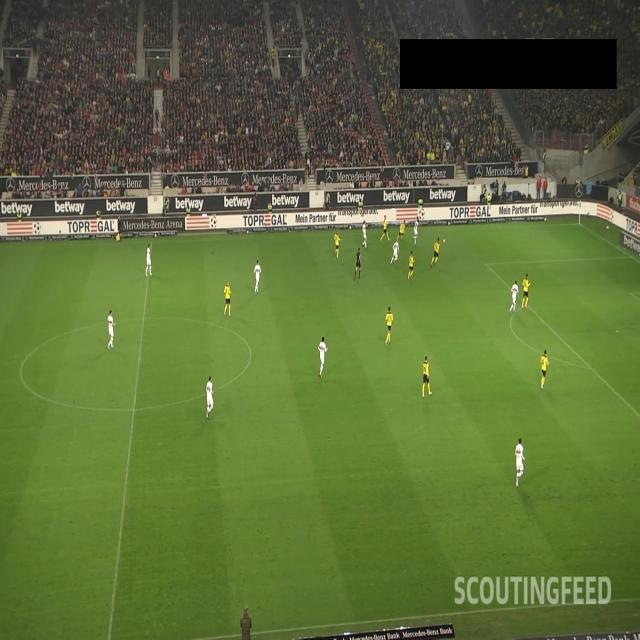ball: (442, 238, 446, 244)
